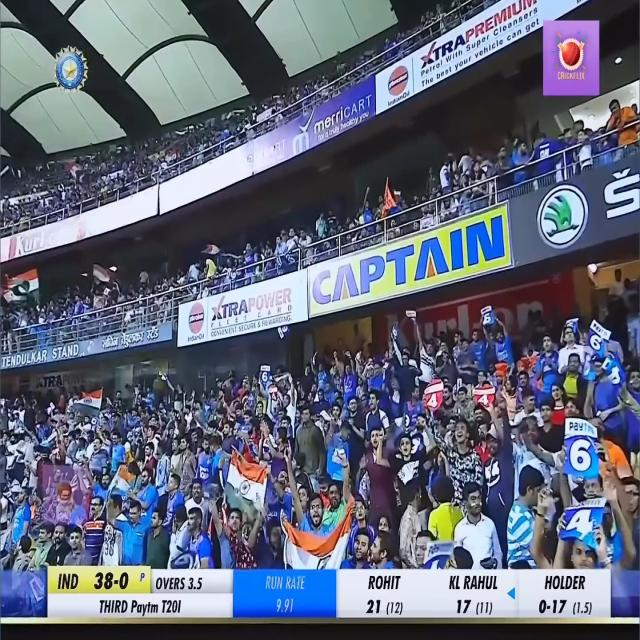partially_visible: (555, 415, 607, 447)
